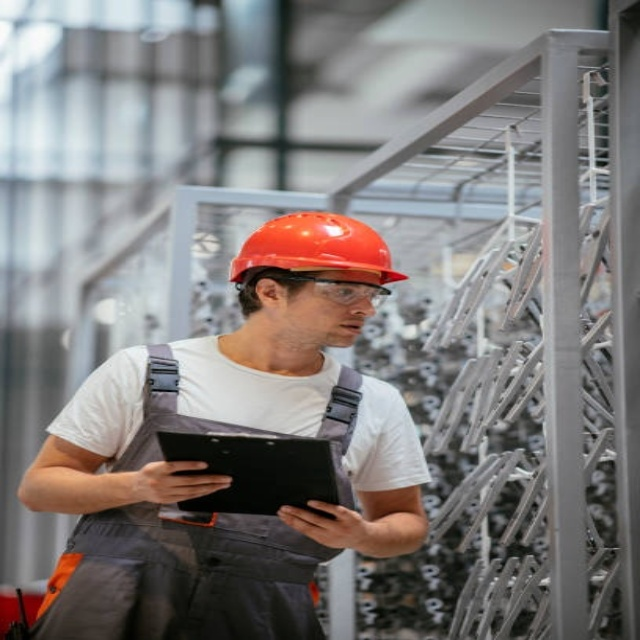Gafas: (270, 276, 392, 308)
Sin_guantes: (276, 494, 365, 551), (132, 459, 234, 507)
Sin_mascara: (318, 314, 370, 341)
